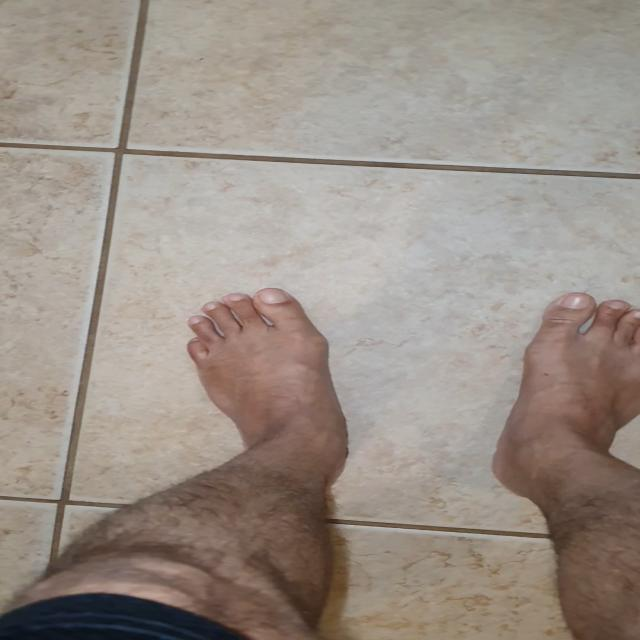no-boots: (178, 287, 359, 483), (479, 292, 632, 487)
